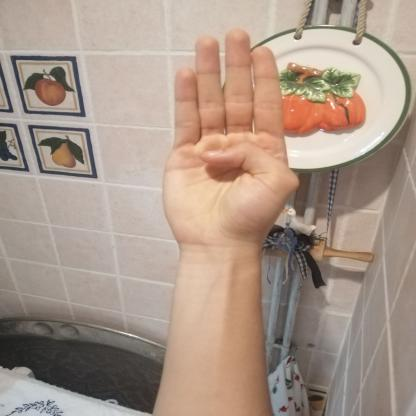KAAF: (138, 15, 318, 267)
